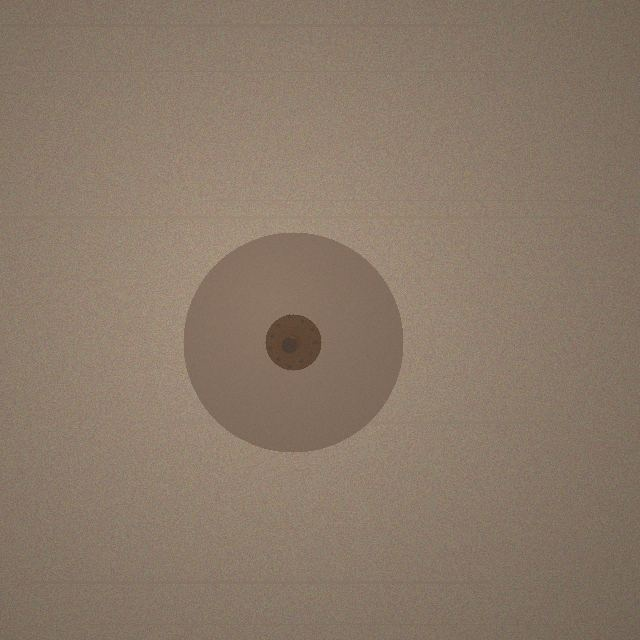cold_weld: (183, 232, 403, 452)
